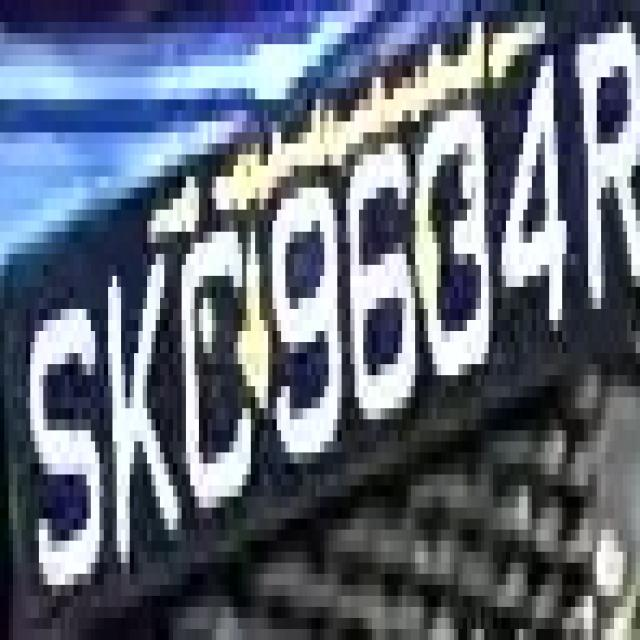3: (407, 89, 498, 408)
4: (493, 55, 575, 364)
6: (333, 100, 424, 442)
9: (260, 198, 342, 464)
C: (173, 220, 246, 508)
K: (95, 243, 173, 552)
R: (575, 11, 631, 331)
S: (17, 298, 104, 563)
